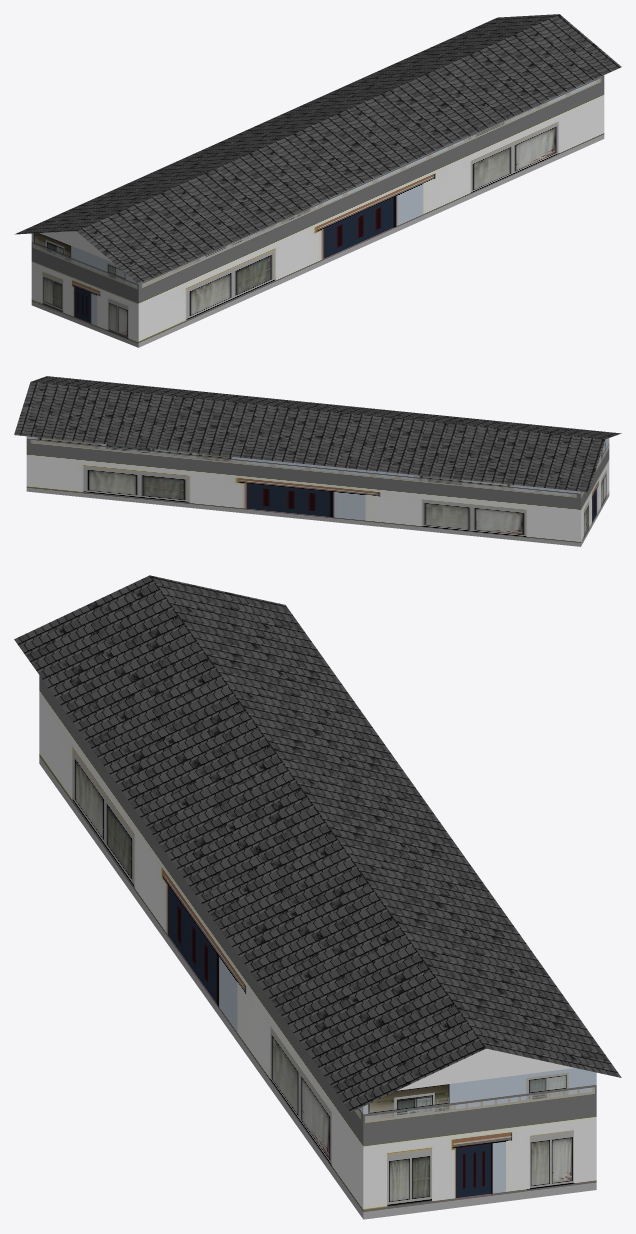
3 views of the same model, one above another, from view 1: azimuth 30°, elevation 25°; view 2: azimuth 150°, elevation 25°; view 3: azimuth 270°, elevation 25° (orthographic). The views are drawn at different scales.
Visible parts, largest first — view 1: CityEngineMaterial_8_m, CityEngineMaterial_7_m, CityEngineMaterial_3_m; view 2: CityEngineMaterial_8_m, CityEngineMaterial_7_m; view 3: CityEngineMaterial_8_m, CityEngineMaterial_7_m, CityEngineMaterial_3_m.
Part boxes in pixels (x1=…): CityEngineMaterial_8_m: x1=14, y1=14, x2=621, y2=283; CityEngineMaterial_7_m: x1=31, y1=75, x2=604, y2=347; CityEngineMaterial_3_m: x1=39, y1=231, x2=111, y2=261; CityEngineMaterial_8_m: x1=14, y1=376, x2=621, y2=492; CityEngineMaterial_7_m: x1=26, y1=436, x2=609, y2=546; CityEngineMaterial_8_m: x1=14, y1=575, x2=621, y2=1112; CityEngineMaterial_7_m: x1=39, y1=675, x2=596, y2=1219; CityEngineMaterial_3_m: x1=397, y1=1048, x2=574, y2=1090.
Bounding box in the file's own units: 56.37 × 8.54 × 28.53.
